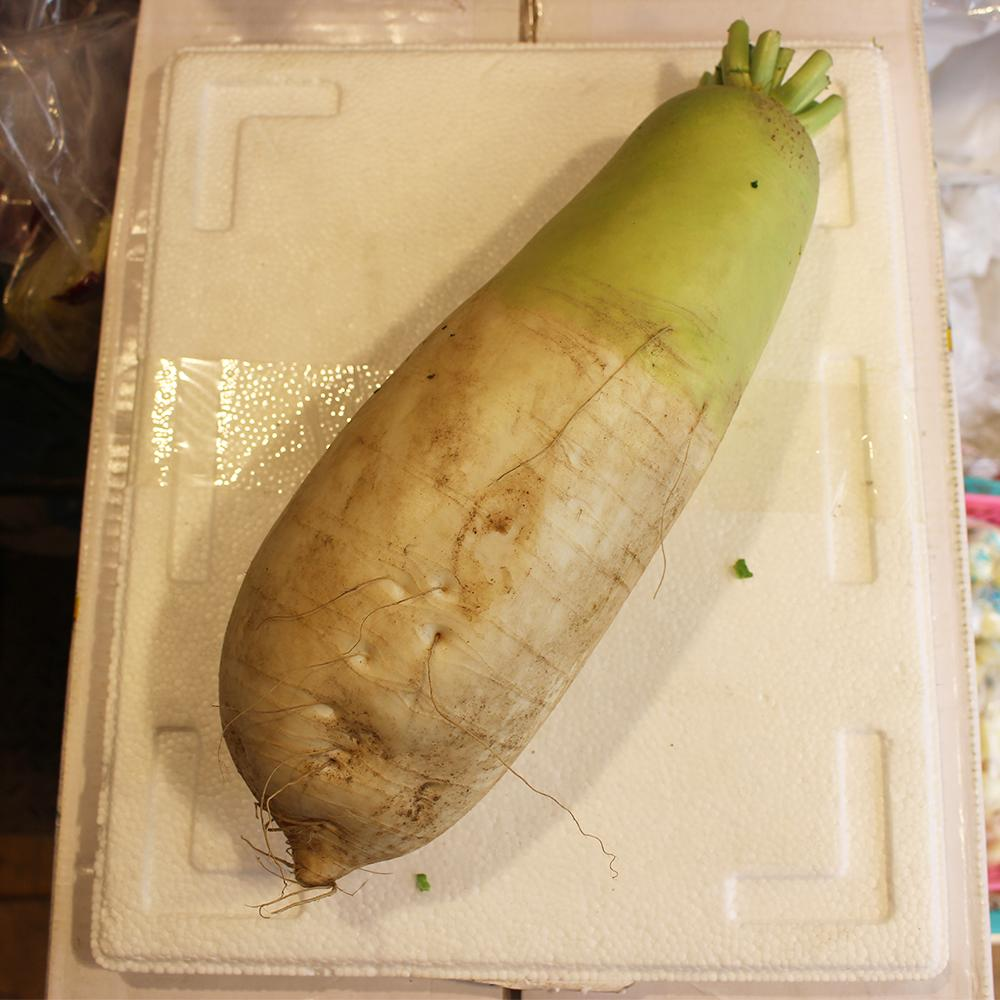radish: (747, 192, 1000, 928)
